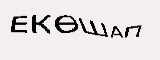А: (109, 25, 122, 39)
Е: (9, 14, 28, 34)
К: (31, 13, 51, 34)
П: (123, 25, 142, 39)
Ш: (78, 17, 108, 38)
Ө: (52, 14, 78, 34)
